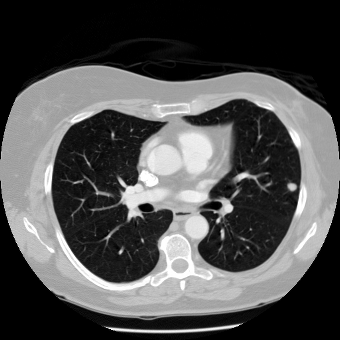nodule: (287, 182, 297, 192)
